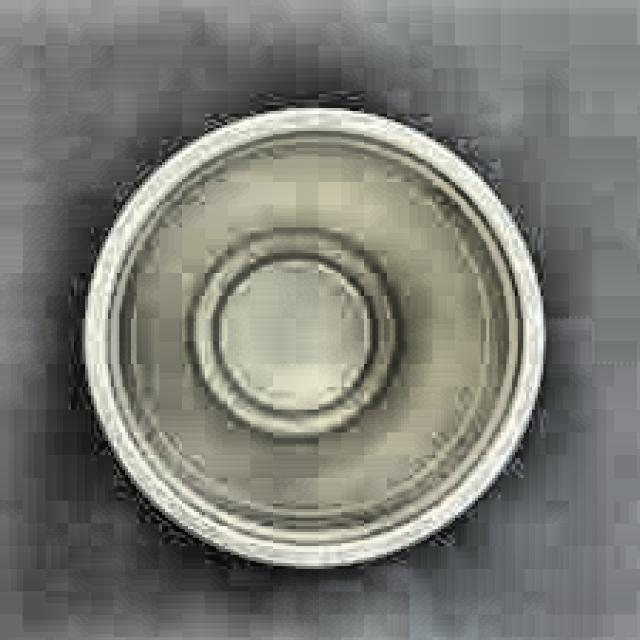Cup: (81, 101, 561, 587)
